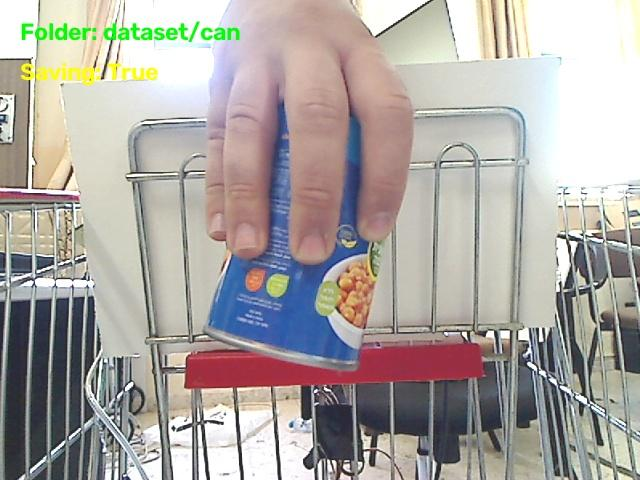can: (204, 108, 381, 369)
